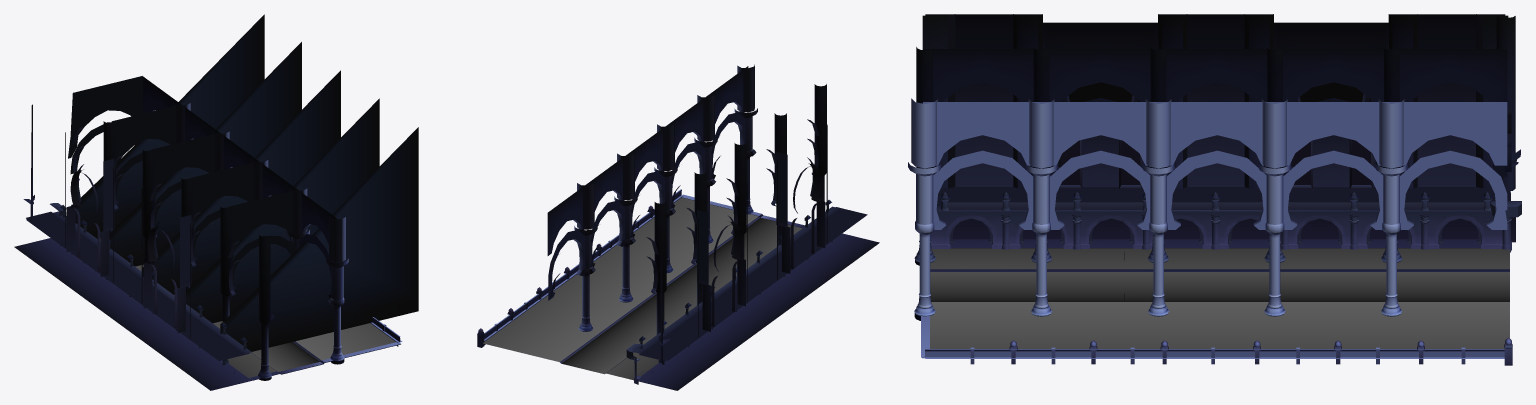
Rendered from NPBoss.gltf.
3 views of the same model, side by side, from view 1: azimuth 30°, elevation 25°; view 2: azimuth 150°, elevation 25°; view 3: azimuth 270°, elevation 25° (orthographic). The views are drawn at different scales.
Parts seen in each view (by area): view 1: stg073_k2_Mesh_0000, stg073_o_Mesh_0000, stg073_o_Mesh_0028, stg073_o_Mesh_0011, stg073_w_Mesh_0001, stg073_o_Mesh_0039, stg073_o_Mesh_0035, stg073_w_Mesh_0000, stg073_o_Mesh_0044; view 2: stg073_o_Mesh_0000, stg073_w_Mesh_0001, stg073_o_Mesh_0028, stg073_w_Mesh_0000, stg073_o_Mesh_0011, stg073_o_Mesh_0044, stg073_o_Mesh_0035, stg073_o_Mesh_0039, stg073_o_Mesh_0022, stg073_o_Mesh_0053, stg073_o_Mesh_0019, stg073_p_Mesh_0000; view 3: stg073_o_Mesh_0028, stg073_w_Mesh_0001, stg073_o_Mesh_0011, stg073_o_Mesh_0000, stg073_w_Mesh_0000, stg073_o_Mesh_0039, stg073_o_Mesh_0035, stg073_o_Mesh_0044, stg073_p_Mesh_0000, stg073_o_Mesh_0038, stg073_o_Mesh_0022, stg073_o_Mesh_0053 (+5 smaller).
Boxes of the visible parts, x1,y1,x2,y2 form: stg073_k2_Mesh_0000: [66, 14, 418, 351]; stg073_o_Mesh_0000: [14, 101, 386, 390]; stg073_o_Mesh_0028: [50, 76, 343, 364]; stg073_o_Mesh_0011: [26, 101, 400, 390]; stg073_w_Mesh_0001: [227, 323, 395, 378]; stg073_o_Mesh_0039: [103, 159, 191, 284]; stg073_o_Mesh_0035: [30, 104, 340, 363]; stg073_w_Mesh_0000: [100, 239, 319, 371]; stg073_o_Mesh_0044: [31, 110, 310, 362]; stg073_o_Mesh_0000: [477, 64, 879, 390]; stg073_w_Mesh_0001: [483, 197, 758, 380]; stg073_o_Mesh_0028: [547, 66, 839, 353]; stg073_w_Mesh_0000: [561, 218, 802, 373]; stg073_o_Mesh_0011: [477, 92, 879, 376]; stg073_o_Mesh_0044: [550, 102, 819, 362]; stg073_o_Mesh_0035: [582, 124, 827, 378]; stg073_o_Mesh_0039: [697, 152, 787, 281]; stg073_o_Mesh_0022: [560, 115, 828, 384]; stg073_o_Mesh_0053: [484, 189, 682, 345]; stg073_o_Mesh_0019: [574, 108, 828, 363]; stg073_p_Mesh_0000: [484, 191, 681, 338]; stg073_o_Mesh_0028: [916, 14, 1521, 295]; stg073_w_Mesh_0001: [922, 248, 1509, 357]; stg073_o_Mesh_0011: [914, 69, 1521, 358]; stg073_o_Mesh_0000: [911, 47, 1517, 365]; stg073_w_Mesh_0000: [930, 272, 1509, 301]; stg073_o_Mesh_0039: [952, 91, 1515, 242]; stg073_o_Mesh_0035: [919, 14, 1515, 292]; stg073_o_Mesh_0044: [936, 22, 1521, 241]; stg073_p_Mesh_0000: [925, 351, 1504, 357]; stg073_o_Mesh_0038: [948, 202, 1484, 209]; stg073_o_Mesh_0022: [911, 166, 1515, 271]; stg073_o_Mesh_0053: [925, 349, 1504, 358].
Bounding box in the file's own units: 61.45 × 46.81 × 91.85.
